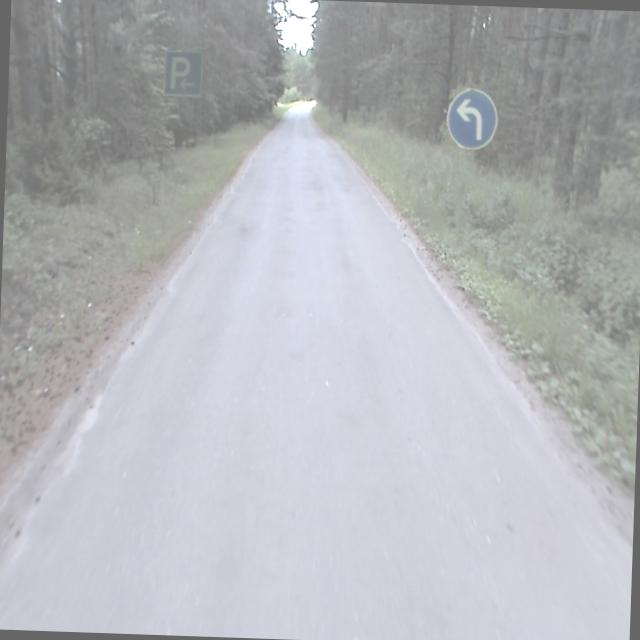road: (0, 102, 632, 640)
